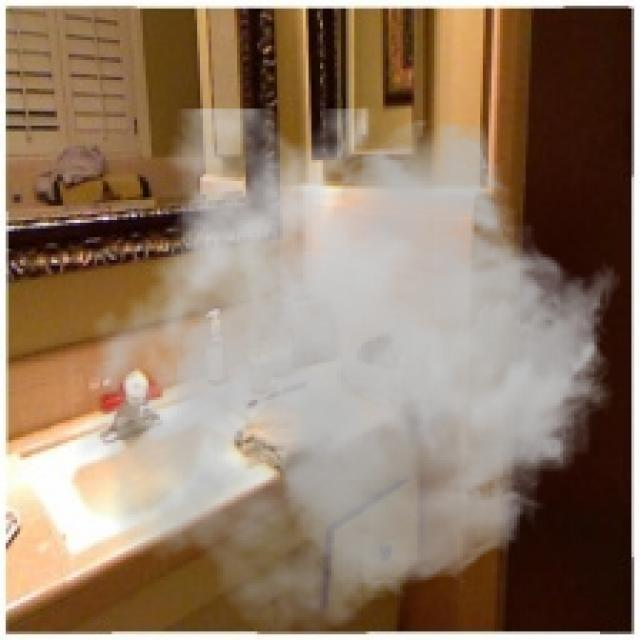Smoke: (74, 108, 623, 638)
